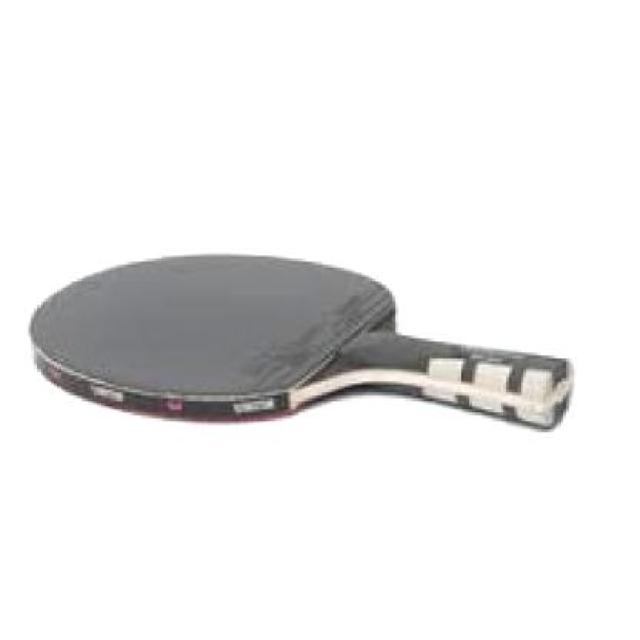table_tennis_racket: (29, 254, 574, 434)
